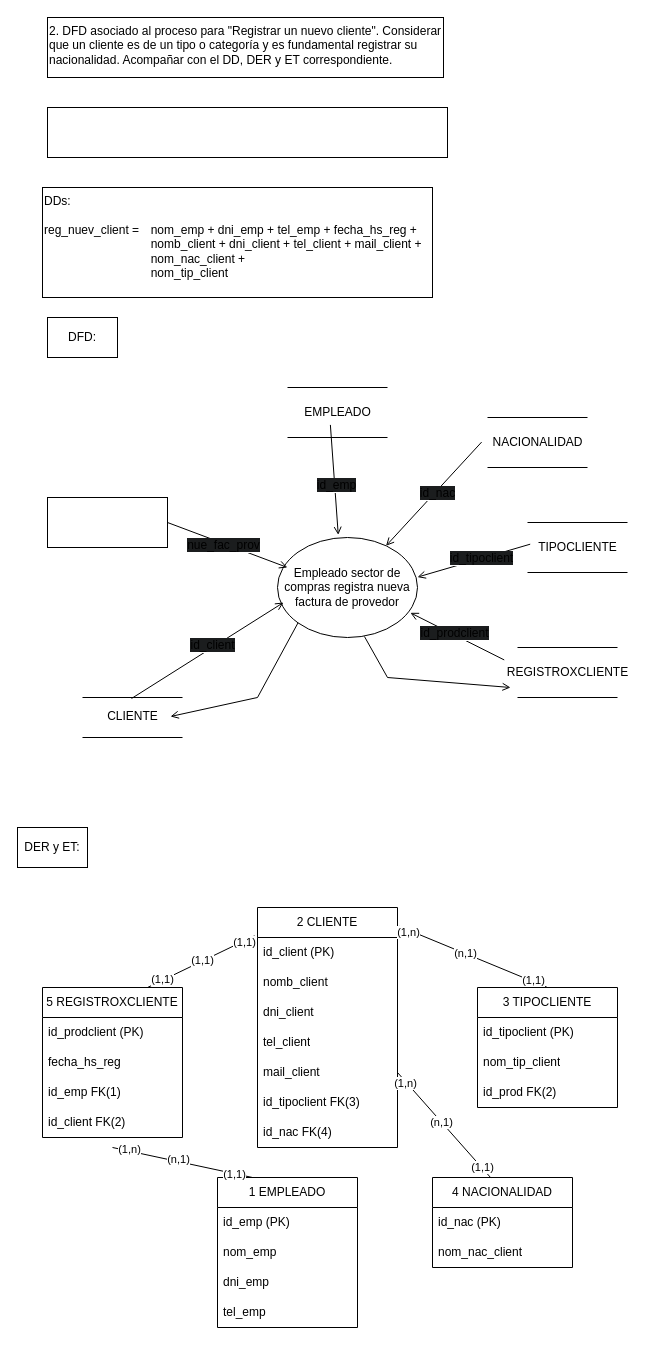
Some shapes in this 655 by 1345 pixel diagram are drawn without their labels. Here are the shapes that lost their labels. From the top down, the centre of each, then its label:
the point at 247,132: LE: Empleado sector de compras registra reg_nuev_client
the point at 107,522: Empleado sector de compras
